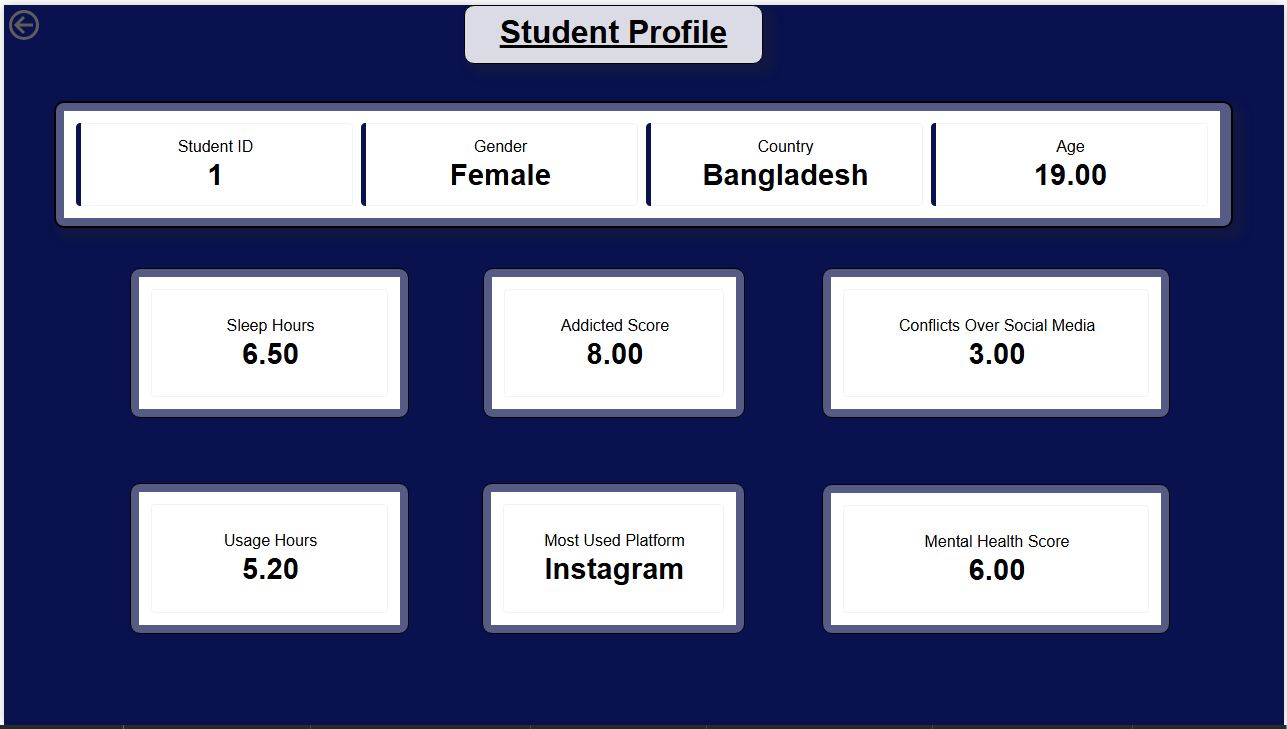

Layout of this report page (visuals, bound fields, positions):
{"tool":"powerbi","page":{"name":"Page 6 : Drill-through Page : Student Profile","canvas":[1280,720],"ordinal":5},"visuals":[{"type":"actionButton","box":[0,0,100,40],"z":0},{"type":"cardVisual","fields":{"Data":["Min(Platform Details.Student_ID)","Min(Student Details.Gender)","Min(Student Details.Country)","Avg(Student Details.Age)"]},"box":[49.7,95.6,1179.3,127.5],"z":1000},{"type":"cardVisual","fields":{"Data":["Measures Table.Avg Sleep Hours"]},"box":[125.8,262.7,279.4,150.3],"z":2000},{"type":"cardVisual","fields":{"Data":["Measures Table.Avg Usage Hours"]},"box":[126.2,478.1,279.2,150.4],"z":3000},{"type":"cardVisual","fields":{"Data":["Avg(Student Details.Addicted_Score)"]},"box":[478.6,262.7,262.7,150.3],"z":4000},{"type":"cardVisual","fields":{"Data":["Min(Platform Details.Most_Used_Platform)"]},"box":[478.1,478.1,262.6,150.4],"z":5000},{"type":"cardVisual","fields":{"Data":["Avg(Student Details.Conflicts_Over_Social_Media)"]},"box":[818.1,262.7,348.4,150.3],"z":6000},{"type":"cardVisual","fields":{"Data":["Avg(Student Details.Mental_Health_Score)"]},"box":[818.1,478.6,348.4,150.3],"z":7000},{"type":"textbox","box":[460.2,0,298.3,58.6],"z":8000}]}

Visuals, with their boxes in screenshot pixels (x1, y1, x2, y2), scaled from the page's 1280x720 canvas onto the 1287x729 screenshot:
actionButton: <box>0,0,101,40</box>
cardVisual - Min(Platform Details.Student_ID) x Min(Student Details.Gender): <box>50,97,1236,226</box>
cardVisual - Measures Table.Avg Sleep Hours: <box>126,266,407,418</box>
cardVisual - Measures Table.Avg Usage Hours: <box>127,484,408,636</box>
cardVisual - Avg(Student Details.Addicted_Score): <box>481,266,745,418</box>
cardVisual - Min(Platform Details.Most_Used_Platform): <box>481,484,745,636</box>
cardVisual - Avg(Student Details.Conflicts_Over_Social_Media): <box>823,266,1173,418</box>
cardVisual - Avg(Student Details.Mental_Health_Score): <box>823,485,1173,637</box>
textbox: <box>463,0,763,59</box>
